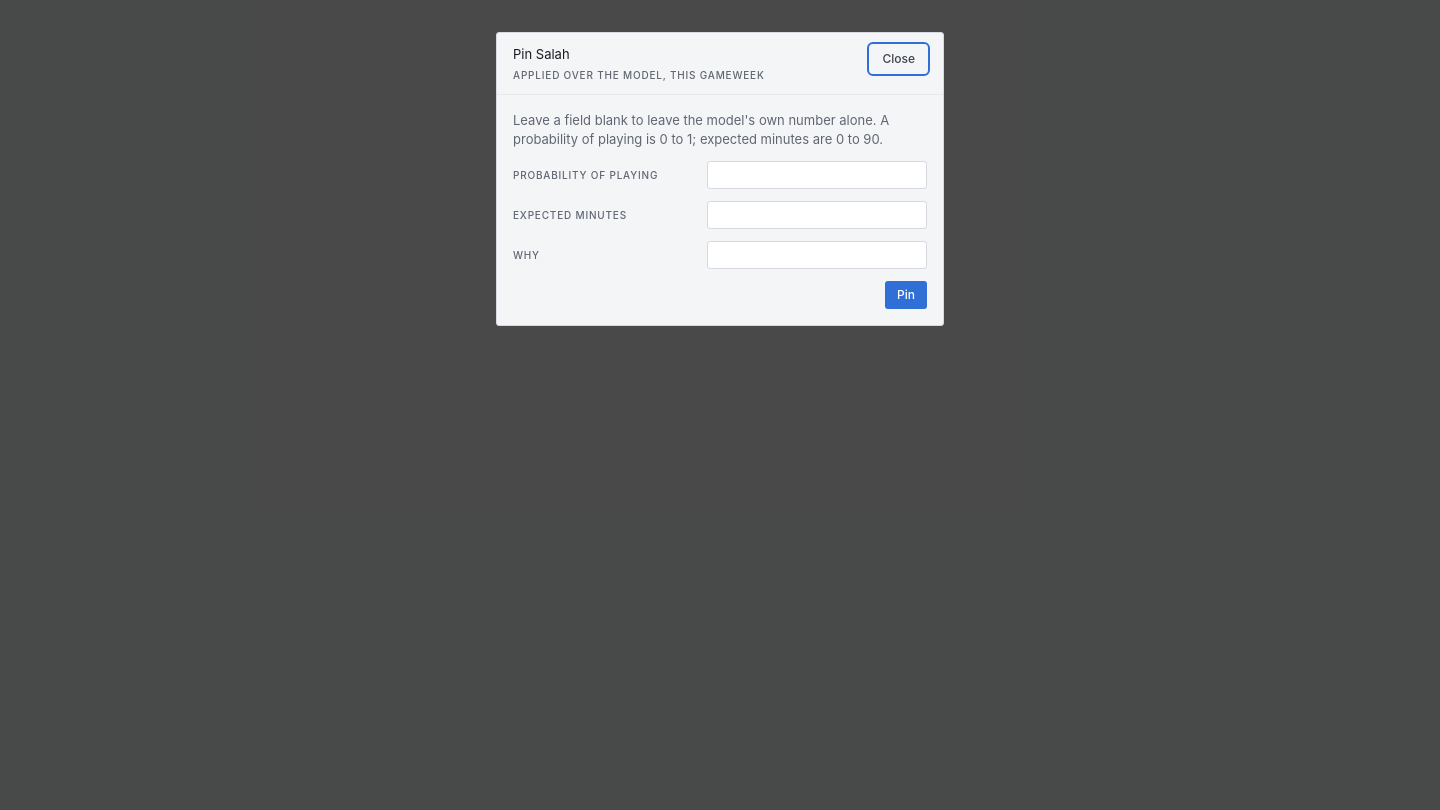
Test: PinDialog › renders a structured 422 beside the fields and stays open
In the field labelled "Probability of playing": (817, 175) [707,161,927,189], type "1"
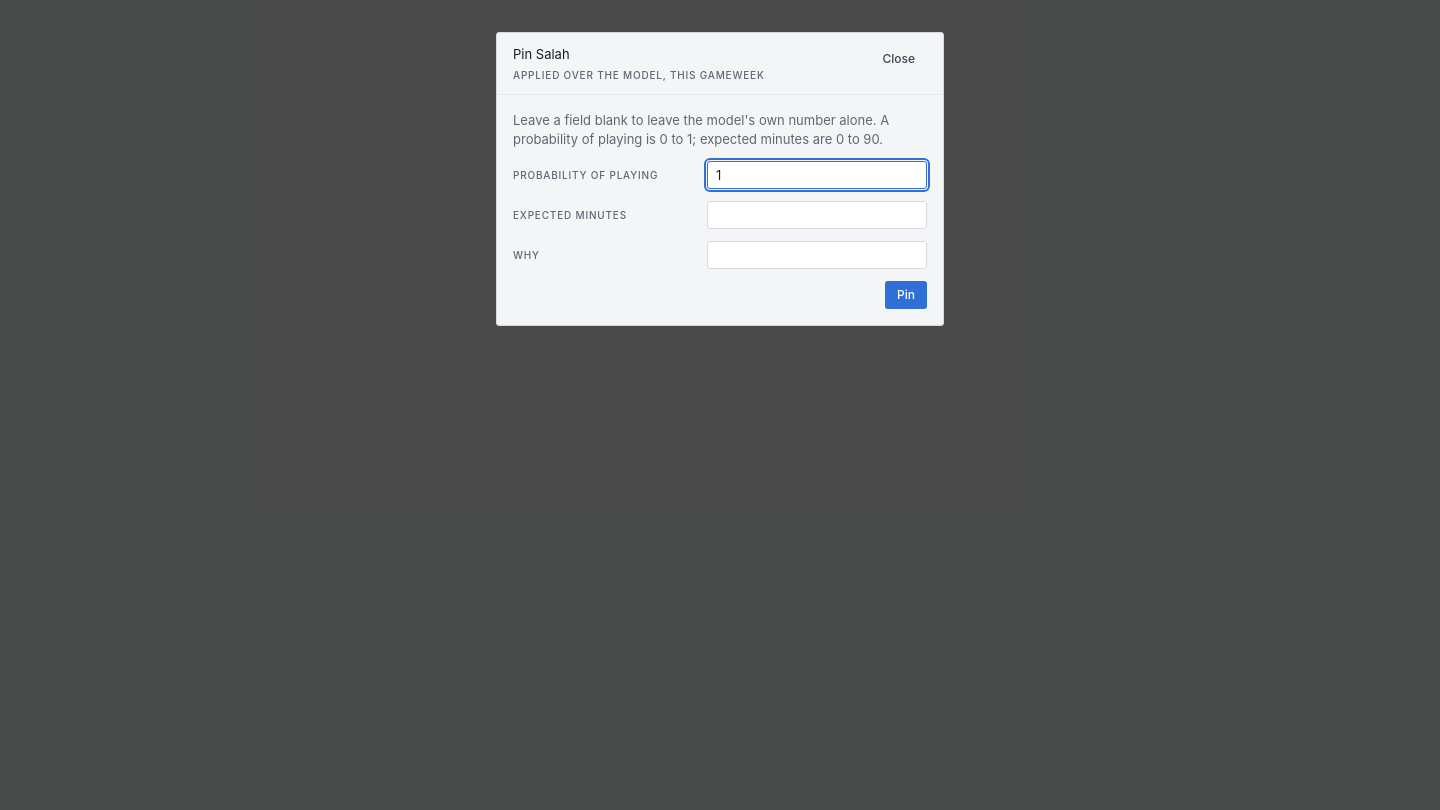
Click the button "Pin": (906, 295) [885,281,927,309]
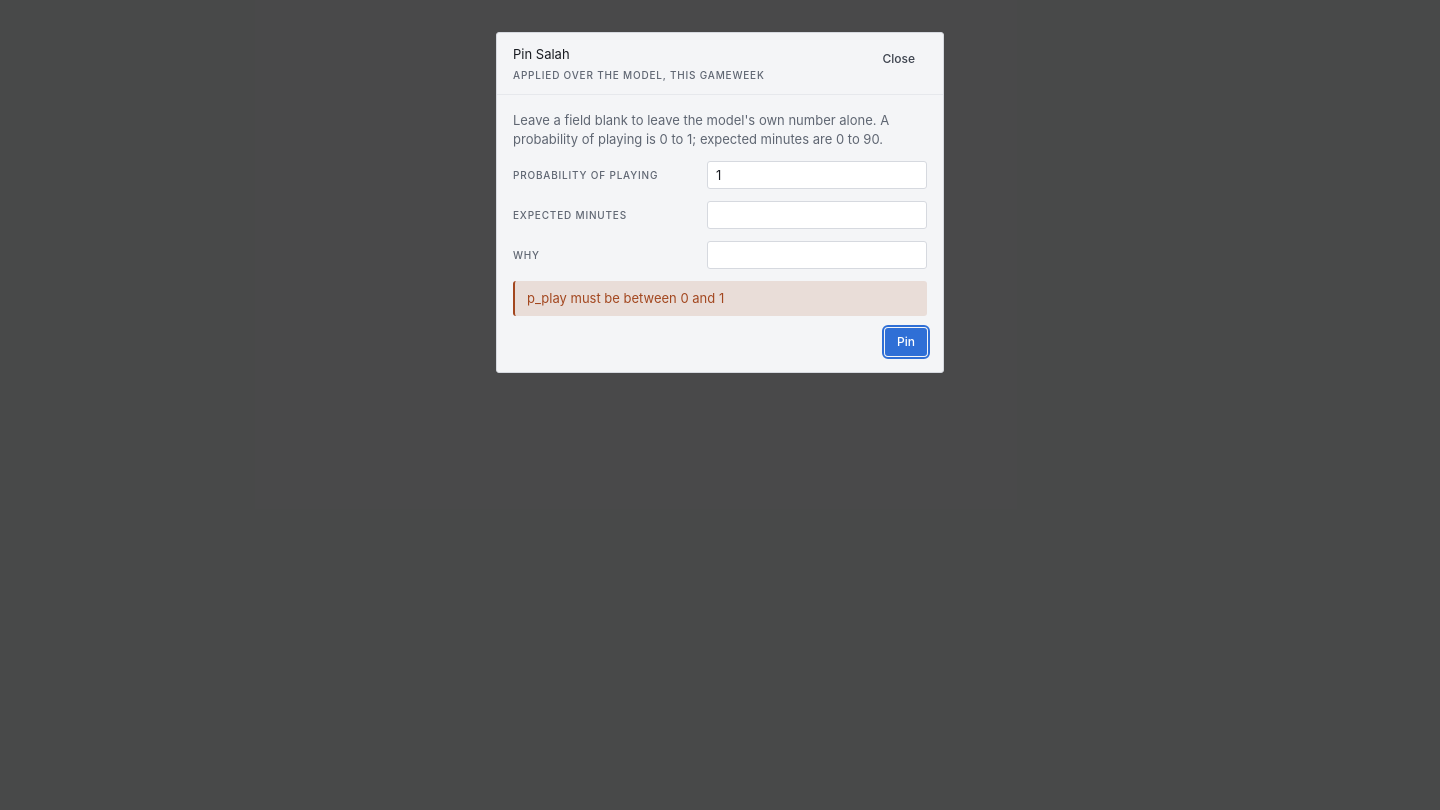
Expected: the text "p_play must be between 0 and 1" is shown, [527,290,724,306]
